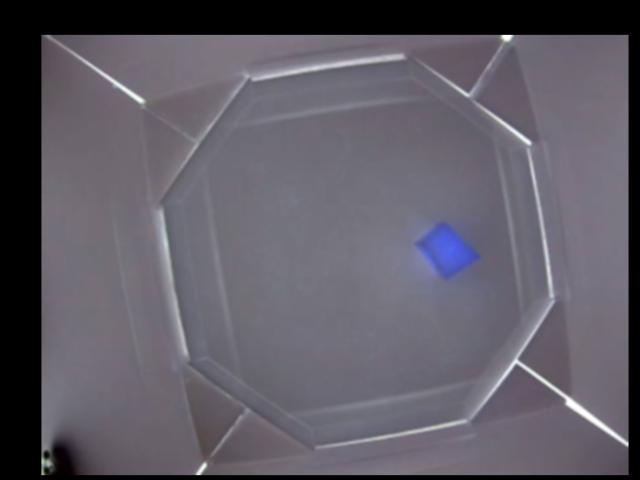Potato: (415, 221, 479, 277)
